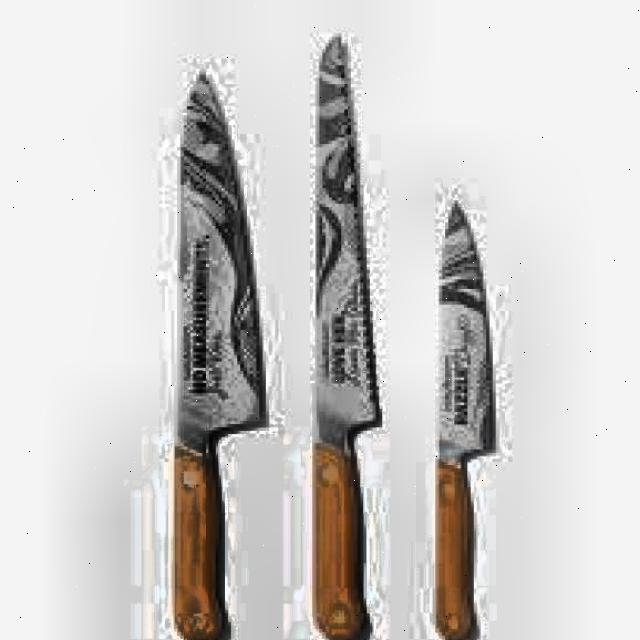knife: (170, 65, 272, 640), (307, 32, 383, 640), (435, 190, 505, 640)
